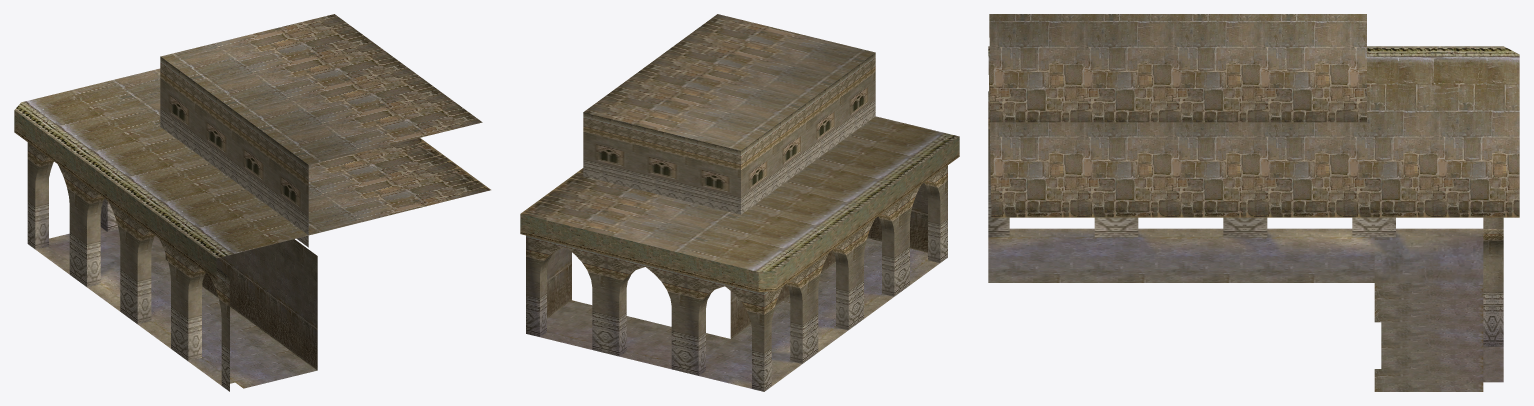
The model's file is M7Z4_FortWall3.glb.
3 views of the same model, side by side, from view 1: azimuth 30°, elevation 25°; view 2: azimuth 150°, elevation 25°; view 3: azimuth 270°, elevation 25° (orthographic). The views are drawn at different scales.
Parts seen in each view (by area): view 1: M7Z4_FORTWALL3; view 2: M7Z4_FORTWALL3; view 3: M7Z4_FORTWALL3.
Part boxes in pixels (x1,y1,x2,y2): M7Z4_FORTWALL3: (14,14,490,391); M7Z4_FORTWALL3: (520,14,959,391); M7Z4_FORTWALL3: (988,14,1519,391).
Bounding box in the file's own units: 12.6 × 9.04 × 16.5.
5 materials, 5 textured.
